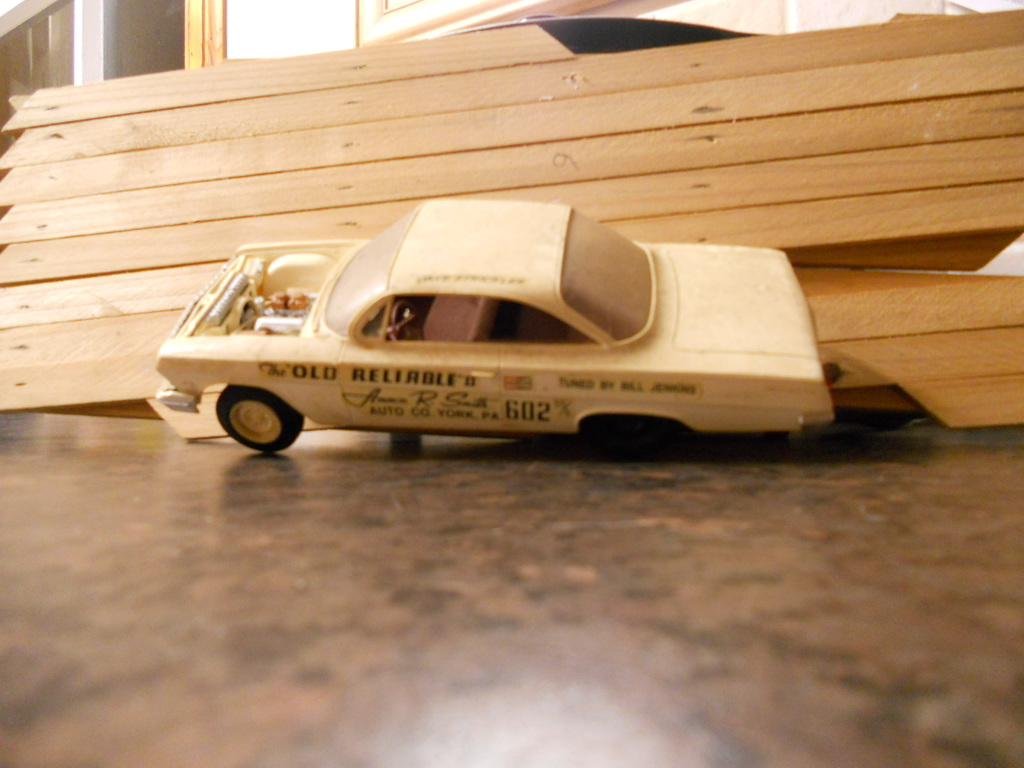Car: (158, 200, 835, 451)
